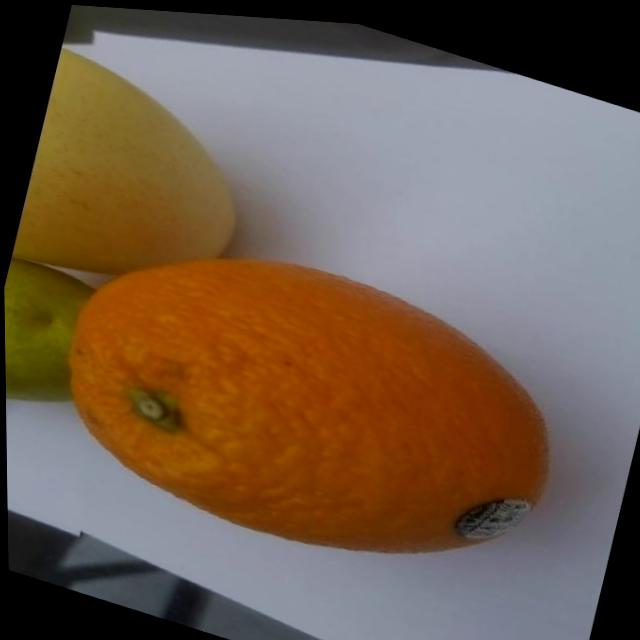Orange: (35, 194, 580, 609)
